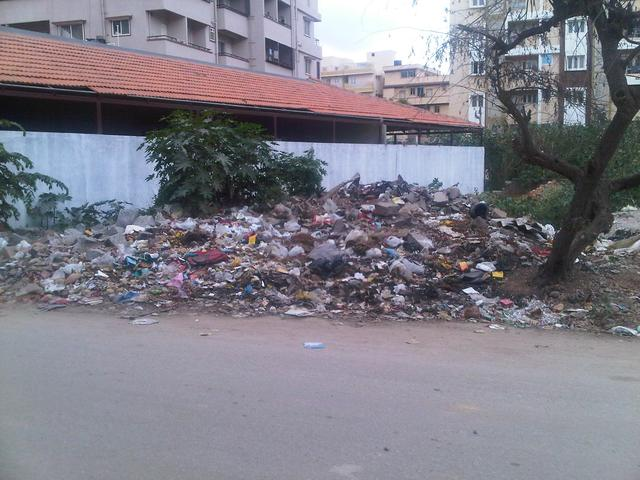garbage: (87, 226, 511, 316), (333, 173, 473, 225)
